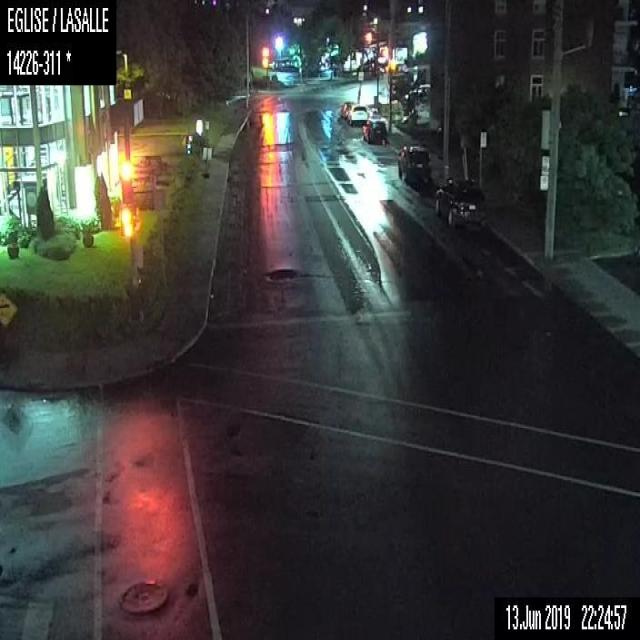vehicle: (433, 178, 490, 225), (398, 141, 429, 180), (362, 115, 388, 144), (346, 102, 368, 124), (340, 100, 350, 118)
